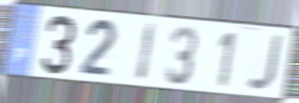1: (217, 30, 238, 88)
2: (79, 16, 119, 81)
3: (38, 12, 78, 77), (164, 23, 200, 88)
I: (134, 20, 158, 84)
J: (245, 33, 285, 93)
